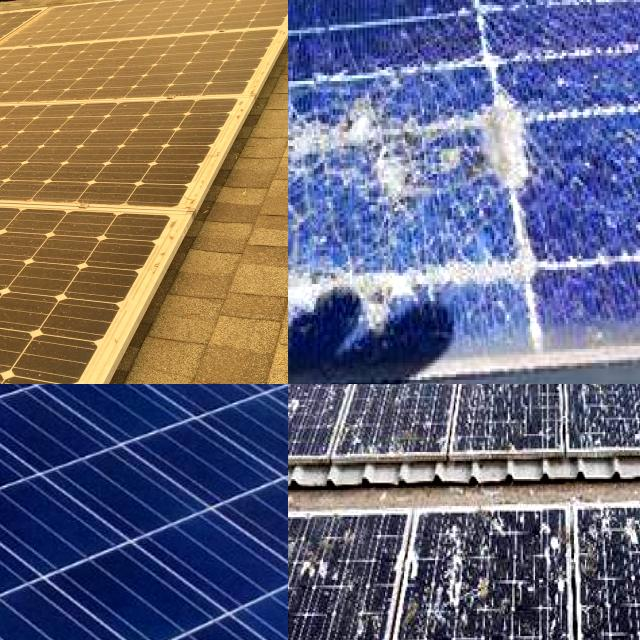bird: (438, 526, 491, 628), (290, 534, 338, 584), (613, 606, 640, 640)
crack: (0, 384, 288, 640)
hotspot: (288, 221, 549, 380), (288, 71, 536, 219)
